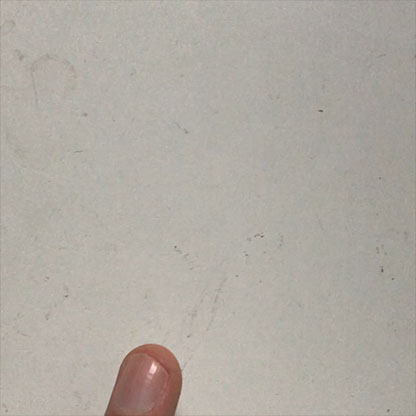fingertip: (101, 338, 184, 413)
